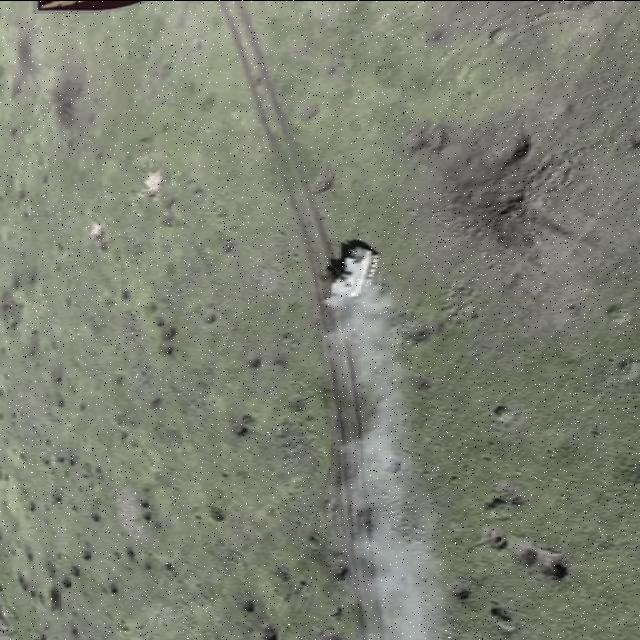APC-IFV: (314, 232, 384, 304)
